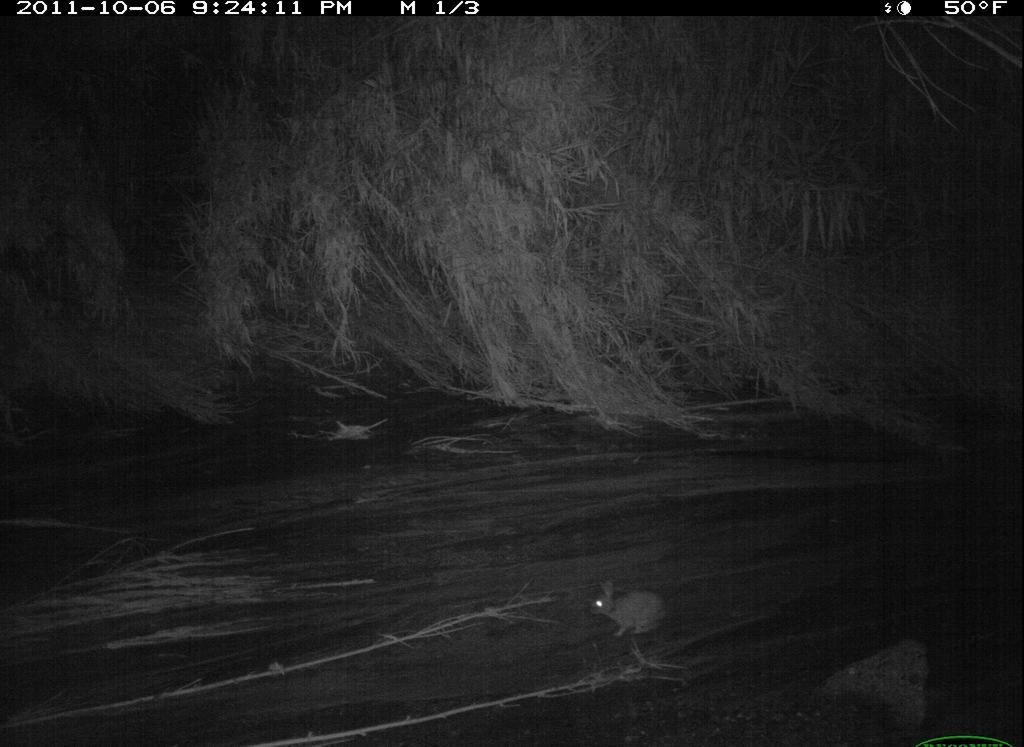rabbit: (591, 578, 673, 639)
